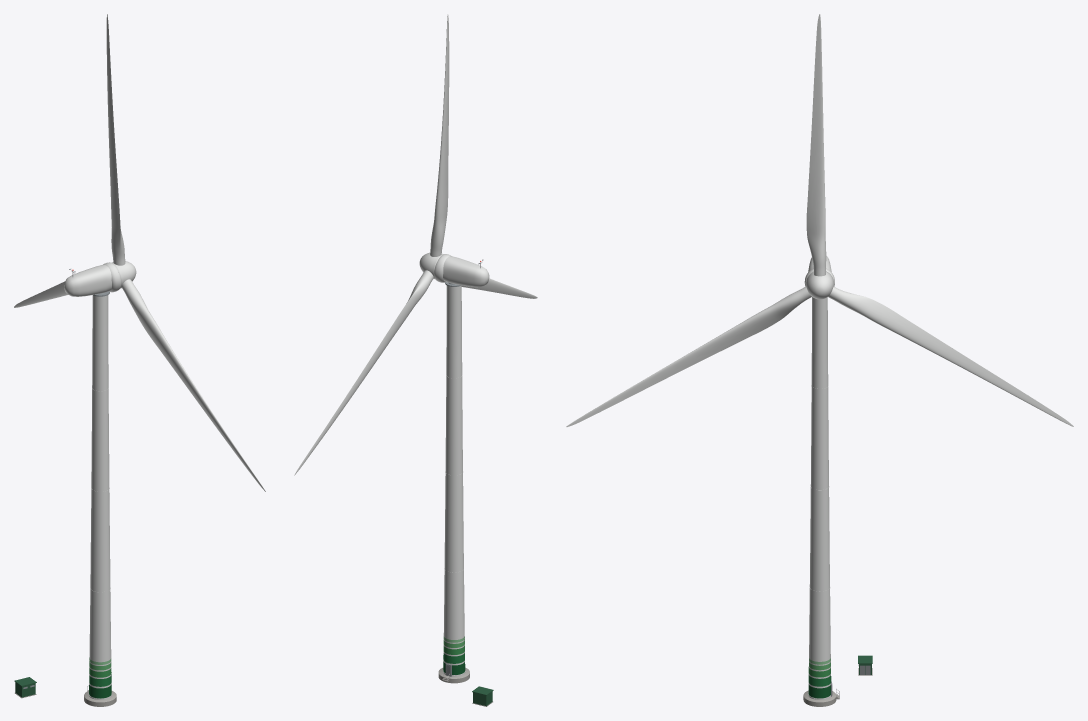
Rendered from ace-turbine.glb.
3 views of the same model, side by side, from view 1: azimuth 30°, elevation 25°; view 2: azimuth 150°, elevation 25°; view 3: azimuth 270°, elevation 25° (orthographic). The views are drawn at different scales.
Visible parts, largest first — view 1: ACE_Tower, ACE_Blade_2, ACE_Blade_1, ACE_NacelleShell, ACE_TowerBands, ACE_Blade_3; view 2: ACE_Tower, ACE_Blade_1, ACE_Blade_3, ACE_NacelleShell, ACE_TowerBands, ACE_Blade_2; view 3: ACE_Tower, ACE_Blade_3, ACE_Blade_1, ACE_Blade_2, ACE_TowerBands.
Boxes of the visible parts, left/top/right/bottom form: ACE_Tower: left=88, top=295, right=111, bottom=699; ACE_Blade_2: left=121, top=279, right=265, bottom=491; ACE_Blade_1: left=106, top=14, right=125, bottom=265; ACE_NacelleShell: left=64, top=262, right=121, bottom=296; ACE_TowerBands: left=89, top=657, right=111, bottom=698; ACE_Blade_3: left=14, top=281, right=68, bottom=307; ACE_Tower: left=443, top=285, right=465, bottom=676; ACE_Blade_1: left=430, top=14, right=449, bottom=256; ACE_Blade_3: left=294, top=270, right=433, bottom=475; ACE_NacelleShell: left=434, top=254, right=489, bottom=287; ACE_TowerBands: left=443, top=636, right=465, bottom=674; ACE_Blade_2: left=461, top=278, right=537, bottom=298; ACE_Tower: left=808, top=297, right=831, bottom=699; ACE_Blade_3: left=828, top=286, right=1073, bottom=426; ACE_Blade_1: left=806, top=14, right=826, bottom=276; ACE_Blade_2: left=566, top=286, right=811, bottom=426; ACE_TowerBands: left=808, top=658, right=831, bottom=698.
Size of the model in its own units: 22.88 by 150 by 100.
2 materials, 2 textured.
